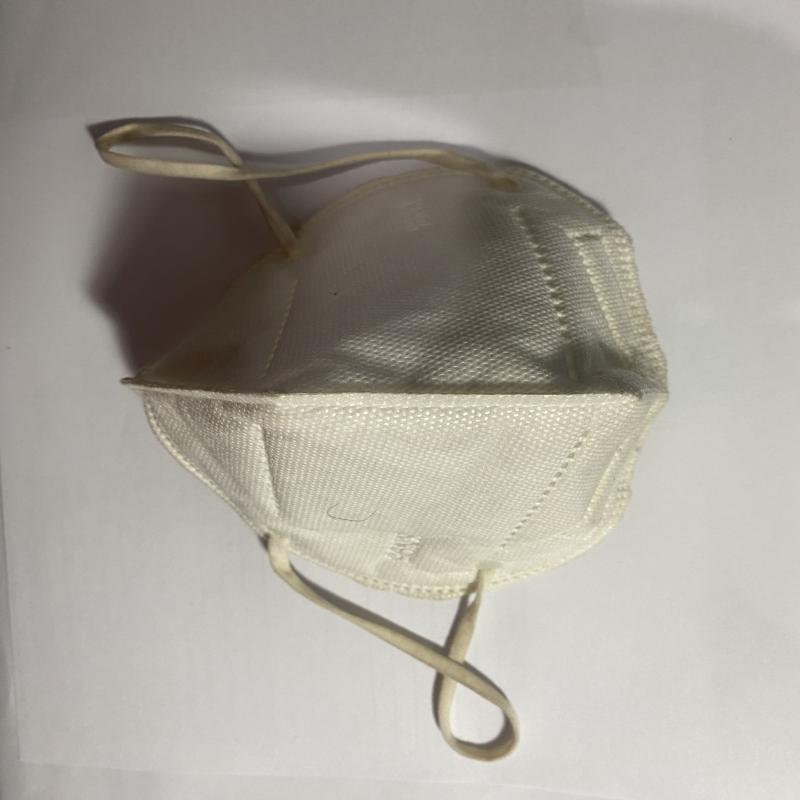facemask: (87, 117, 671, 765)
